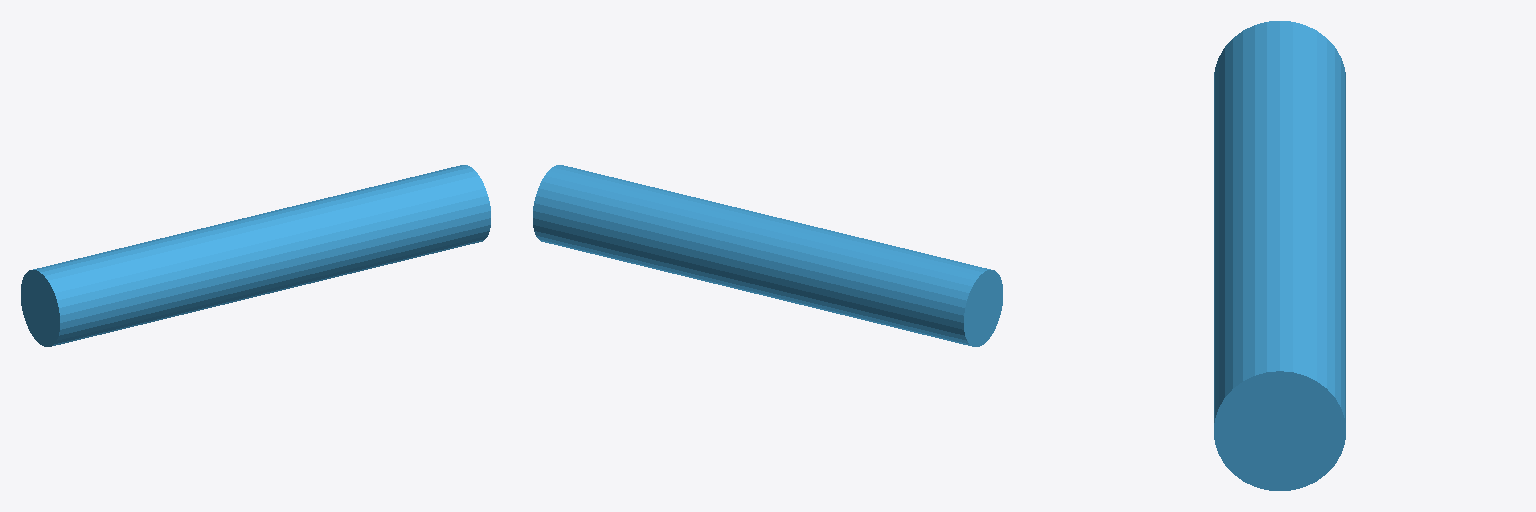
robot.urdf — panda:
<?xml version="1.0" ?>
<!-- =================================================================================== -->
<!-- |    This document was autogenerated by xacro from panda_arm.urdf.xacro           | -->
<!-- |    EDITING THIS FILE BY HAND IS NOT RECOMMENDED                                 | -->
<!-- =================================================================================== -->
<robot name="panda">
  <link name="panda_link0">
    <visual>
      <geometry>
        <mesh filename="franka_description/meshes/visual/link0.glb"/>
      </geometry>
    </visual>
    <collision>
      <geometry>
        <mesh filename="franka_description/meshes/collision/link0.stl"/>
      </geometry>
    </collision>
    <inertial>
      <origin rpy="0 0 0" xyz="-0.041018 -0.00014 0.049974"/>
      <mass value="0.629769"/>
      <inertia ixx="0.00315" ixy="8.2904e-07" ixz="0.00015" iyy="0.00388" iyz="8.2299e-06" izz="0.004285"/>
    </inertial>
  </link>
  <link name="panda_link1">
    <visual>
      <geometry>
        <mesh filename="franka_description/meshes/visual/link1.glb"/>
      </geometry>
    </visual>
    <collision>
      <geometry>
        <mesh filename="franka_description/meshes/collision/link1.stl"/>
      </geometry>
    </collision>
    <inertial>
      <origin rpy="0 0 0" xyz="0.003875 0.002081 -0.04762"/>
      <mass value="4.970684"/>
      <inertia ixx="0.70337" ixy="-0.000139" ixz="0.006772" iyy="0.70661" iyz="0.019169" izz="0.009117"/>
    </inertial>
  </link>
  <joint name="panda_joint1" type="revolute">
    <safety_controller k_position="100.0" k_velocity="40.0" soft_lower_limit="-2.8973" soft_upper_limit="2.8973"/>
    <origin rpy="0 0 0" xyz="0 0 0.333"/>
    <parent link="panda_link0"/>
    <child link="panda_link1"/>
    <axis xyz="0 0 1"/>
    <limit effort="87" lower="-2.8973" upper="2.8973" velocity="2.1750"/>
    <dynamics D="1" K="7000" damping="0.003" friction="0.0" mu_coulomb="0" mu_viscous="16"/>
  </joint>
  <link name="panda_link2">
    <visual>
      <geometry>
        <mesh filename="franka_description/meshes/visual/link2.glb"/>
      </geometry>
    </visual>
    <collision>
      <geometry>
        <mesh filename="franka_description/meshes/collision/link2.stl"/>
      </geometry>
    </collision>
    <inertial>
      <origin rpy="0 0 0" xyz="-0.003141 -0.02872  0.003495"/>
      <mass value="0.646926"/>
      <inertia ixx="0.007962" ixy="-0.003925" ixz="0.010254" iyy="0.02811" iyz="0.000704" izz="0.025995"/>
    </inertial>
  </link>
  <joint name="panda_joint2" type="revolute">
    <safety_controller k_position="100.0" k_velocity="40.0" soft_lower_limit="-1.7628" soft_upper_limit="1.7628"/>
    <origin rpy="-1.5707963267948966 0 0" xyz="0 0 0"/>
    <parent link="panda_link1"/>
    <child link="panda_link2"/>
    <axis xyz="0 0 1"/>
    <limit effort="87" lower="-1.7628" upper="1.7628" velocity="2.1750"/>
    <dynamics D="1" K="7000" damping="0.003" friction="0.0" mu_coulomb="0" mu_viscous="16"/>
  </joint>
  <link name="panda_link3">
    <visual>
      <geometry>
        <mesh filename="franka_description/meshes/visual/link3.glb"/>
      </geometry>
    </visual>
    <collision>
      <geometry>
        <mesh filename="franka_description/meshes/collision/link3.stl"/>
      </geometry>
    </collision>
    <inertial>
      <origin rpy="0 0 0" xyz="2.7518e-02 3.9252e-02 -6.6502e-02"/>
      <mass value="3.228604"/>
      <inertia ixx="0.037242" ixy="-0.004761" ixz="-0.011396" iyy="0.036155" iyz="-0.012805" izz="0.01083"/>
    </inertial>
  </link>
  <joint name="panda_joint3" type="revolute">
    <safety_controller k_position="100.0" k_velocity="40.0" soft_lower_limit="-2.8973" soft_upper_limit="2.8973"/>
    <origin rpy="1.5707963267948966 0 0" xyz="0 -0.316 0"/>
    <parent link="panda_link2"/>
    <child link="panda_link3"/>
    <axis xyz="0 0 1"/>
    <limit effort="87" lower="-2.8973" upper="2.8973" velocity="2.1750"/>
    <dynamics D="1" K="7000" damping="0.003" friction="0.0" mu_coulomb="0" mu_viscous="16"/>
  </joint>
  <link name="panda_link4">
    <visual>
      <geometry>
        <mesh filename="franka_description/meshes/visual/link4.glb"/>
      </geometry>
    </visual>
    <collision>
      <geometry>
        <mesh filename="franka_description/meshes/collision/link4.stl"/>
      </geometry>
    </collision>
    <inertial>
      <origin rpy="0 0 0" xyz="-5.317e-02 1.04419e-01 2.7454e-02"/>
      <mass value="3.587895"/>
      <inertia ixx="0.025853" ixy="0.007796" ixz="-0.001332" iyy="0.019552" iyz="0.008641" izz="0.028323"/>
    </inertial>
  </link>
  <joint name="panda_joint4" type="revolute">
    <safety_controller k_position="100.0" k_velocity="40.0" soft_lower_limit="-3.0718" soft_upper_limit="-0.0698"/>
    <origin rpy="1.5707963267948966 0 0" xyz="0.0825 0 0"/>
    <parent link="panda_link3"/>
    <child link="panda_link4"/>
    <axis xyz="0 0 1"/>
    <limit effort="87" lower="-3.0718" upper="-0.0698" velocity="2.1750"/>
    <dynamics D="1" K="7000" damping="0.003" friction="0.0" mu_coulomb="0" mu_viscous="16"/>
  </joint>
  <link name="panda_link5">
    <visual>
      <geometry>
        <mesh filename="franka_description/meshes/visual/link5.glb"/>
      </geometry>
    </visual>
    <collision>
      <geometry>
        <mesh filename="franka_description/meshes/collision/link5.stl"/>
      </geometry>
    </collision>
    <inertial>
      <origin rpy="0 0 0" xyz="-1.1953e-02 4.1065e-02 -3.8437e-02"/>
      <mass value="1.225946"/>
      <inertia ixx="0.035549" ixy="-0.002117" ixz="-0.004037" iyy="0.029474" iyz="0.000229" izz="0.008627"/>
    </inertial>
  </link>
  <joint name="panda_joint5" type="revolute">
    <safety_controller k_position="100.0" k_velocity="40.0" soft_lower_limit="-2.8973" soft_upper_limit="2.8973"/>
    <origin rpy="-1.5707963267948966 0 0" xyz="-0.0825 0.384 0"/>
    <parent link="panda_link4"/>
    <child link="panda_link5"/>
    <axis xyz="0 0 1"/>
    <limit effort="12" lower="-2.8973" upper="2.8973" velocity="2.6100"/>
    <dynamics D="1" K="7000" damping="0.003" friction="0.0" mu_coulomb="0" mu_viscous="16"/>
  </joint>
  <link name="panda_link6">
    <visual>
      <geometry>
        <mesh filename="franka_description/meshes/visual/link6.glb"/>
      </geometry>
    </visual>
    <collision>
      <geometry>
        <mesh filename="franka_description/meshes/collision/link6.stl"/>
      </geometry>
    </collision>
    <inertial>
      <origin rpy="0 0 0" xyz="6.0149e-02 -1.4117e-02 -1.0517e-02"/>
      <mass value="1.666555"/>
      <inertia ixx="0.001964" ixy="0.000109" ixz="-0.001158" iyy="0.004354" iyz="0.000341" izz="0.005433"/>
    </inertial>
  </link>
  <joint name="panda_joint6" type="revolute">
    <safety_controller k_position="100.0" k_velocity="40.0" soft_lower_limit="-0.0175" soft_upper_limit="3.7525"/>
    <origin rpy="1.5707963267948966 0 0" xyz="0 0 0"/>
    <parent link="panda_link5"/>
    <child link="panda_link6"/>
    <axis xyz="0 0 1"/>
    <limit effort="12" lower="-0.0175" upper="3.7525" velocity="2.6100"/>
    <dynamics D="1" K="7000" damping="0.003" friction="0.0" mu_coulomb="0" mu_viscous="16"/>
  </joint>
  <link name="panda_link7">
    <visual>
      <geometry>
        <mesh filename="franka_description/meshes/visual/link7.glb"/>
      </geometry>
    </visual>
    <collision>
      <geometry>
        <mesh filename="franka_description/meshes/collision/link7.stl"/>
      </geometry>
    </collision>
    <inertial>
      <origin rpy="0 0 0" xyz="1.0517e-02 -4.252e-03 6.1597e-02"/>
      <mass value="0.735522"/>
      <inertia ixx="0.012516" ixy="-0.000428" ixz="-0.001196" iyy="0.010027" iyz="-0.000741" izz="0.004815"/>
    </inertial>
  </link>
  <joint name="panda_joint7" type="revolute">
    <safety_controller k_position="100.0" k_velocity="40.0" soft_lower_limit="-2.8973" soft_upper_limit="2.8973"/>
    <origin rpy="1.5707963267948966 0 0" xyz="0.088 0 0"/>
    <parent link="panda_link6"/>
    <child link="panda_link7"/>
    <axis xyz="0 0 1"/>
    <limit effort="12" lower="-2.8973" upper="2.8973" velocity="2.6100"/>
    <dynamics D="1" K="7000" damping="0.003" friction="0.0" mu_coulomb="0" mu_viscous="16"/>
  </joint>
  <link name="panda_link8"/>
  <joint name="panda_joint8" type="fixed">
    <origin rpy="0 0 0" xyz="0 0 0.107"/>
    <parent link="panda_link7"/>
    <child link="panda_link8"/>
  </joint>
  <joint name="panda_hand_joint" type="fixed">
    <parent link="panda_link8" />
    <child link="panda_hand" />
    <origin rpy="0 0 -0.785398163397" xyz="0 0 0" />
  </joint>
  <link name="panda_hand">
    <visual>
      <geometry>
        <mesh filename="franka_description/meshes/visual/hand.glb" />
      </geometry>
    </visual>
    <visual>
      <origin xyz="0 0 0.1" rpy="0 0 0"/>
      <geometry>
        <cylinder radius="0.008" length="0.1"/>
      </geometry>
    </visual>
    <collision>
      <geometry>
        <mesh filename="franka_description/meshes/collision/hand.stl" />
      </geometry>
    </collision>
    <collision>
      <origin xyz="0 0 0.1" rpy="0 0 0"/>
      <geometry>
        <cylinder radius="0.008" length="0.1"/>
      </geometry>
    </collision>
  </link>
  <link name="panda_hand_tcp"/>
  <joint name="panda_hand_tcp_joint" type="fixed">
    <origin rpy="0 0 0" xyz="0 0 0.15"/>
    <parent link="panda_hand"/>
    <child link="panda_hand_tcp"/>
  </joint>
</robot>

--- Render facts (derived) ---
Views: 3 orthographic renders of the robot side by side, from view 1: azimuth 30°, elevation 25°; view 2: azimuth 150°, elevation 25°; view 3: azimuth 270°, elevation 25°.
Robot: panda — 11 links, 10 joints (7 revolute, 3 fixed); root link panda_link0; default pose: all joints at 0 but 1 set to mid-range because 0 is outside their limits (panda_joint4 = -1.57).
Visible links, largest first — view 1: panda_hand; view 2: panda_hand; view 3: panda_hand.
Link boxes in pixels (box(x1,y1,x2,y2)): panda_hand: box(21, 165, 490, 346); panda_hand: box(533, 165, 1002, 346); panda_hand: box(1214, 21, 1345, 490).
Size in the robot's own frame: 0.1 by 0.016 by 0.016 metres.
0 mesh visuals loaded from 9 distinct referenced files (none loaded); not drawn: 9 (file found but could not be loaded).